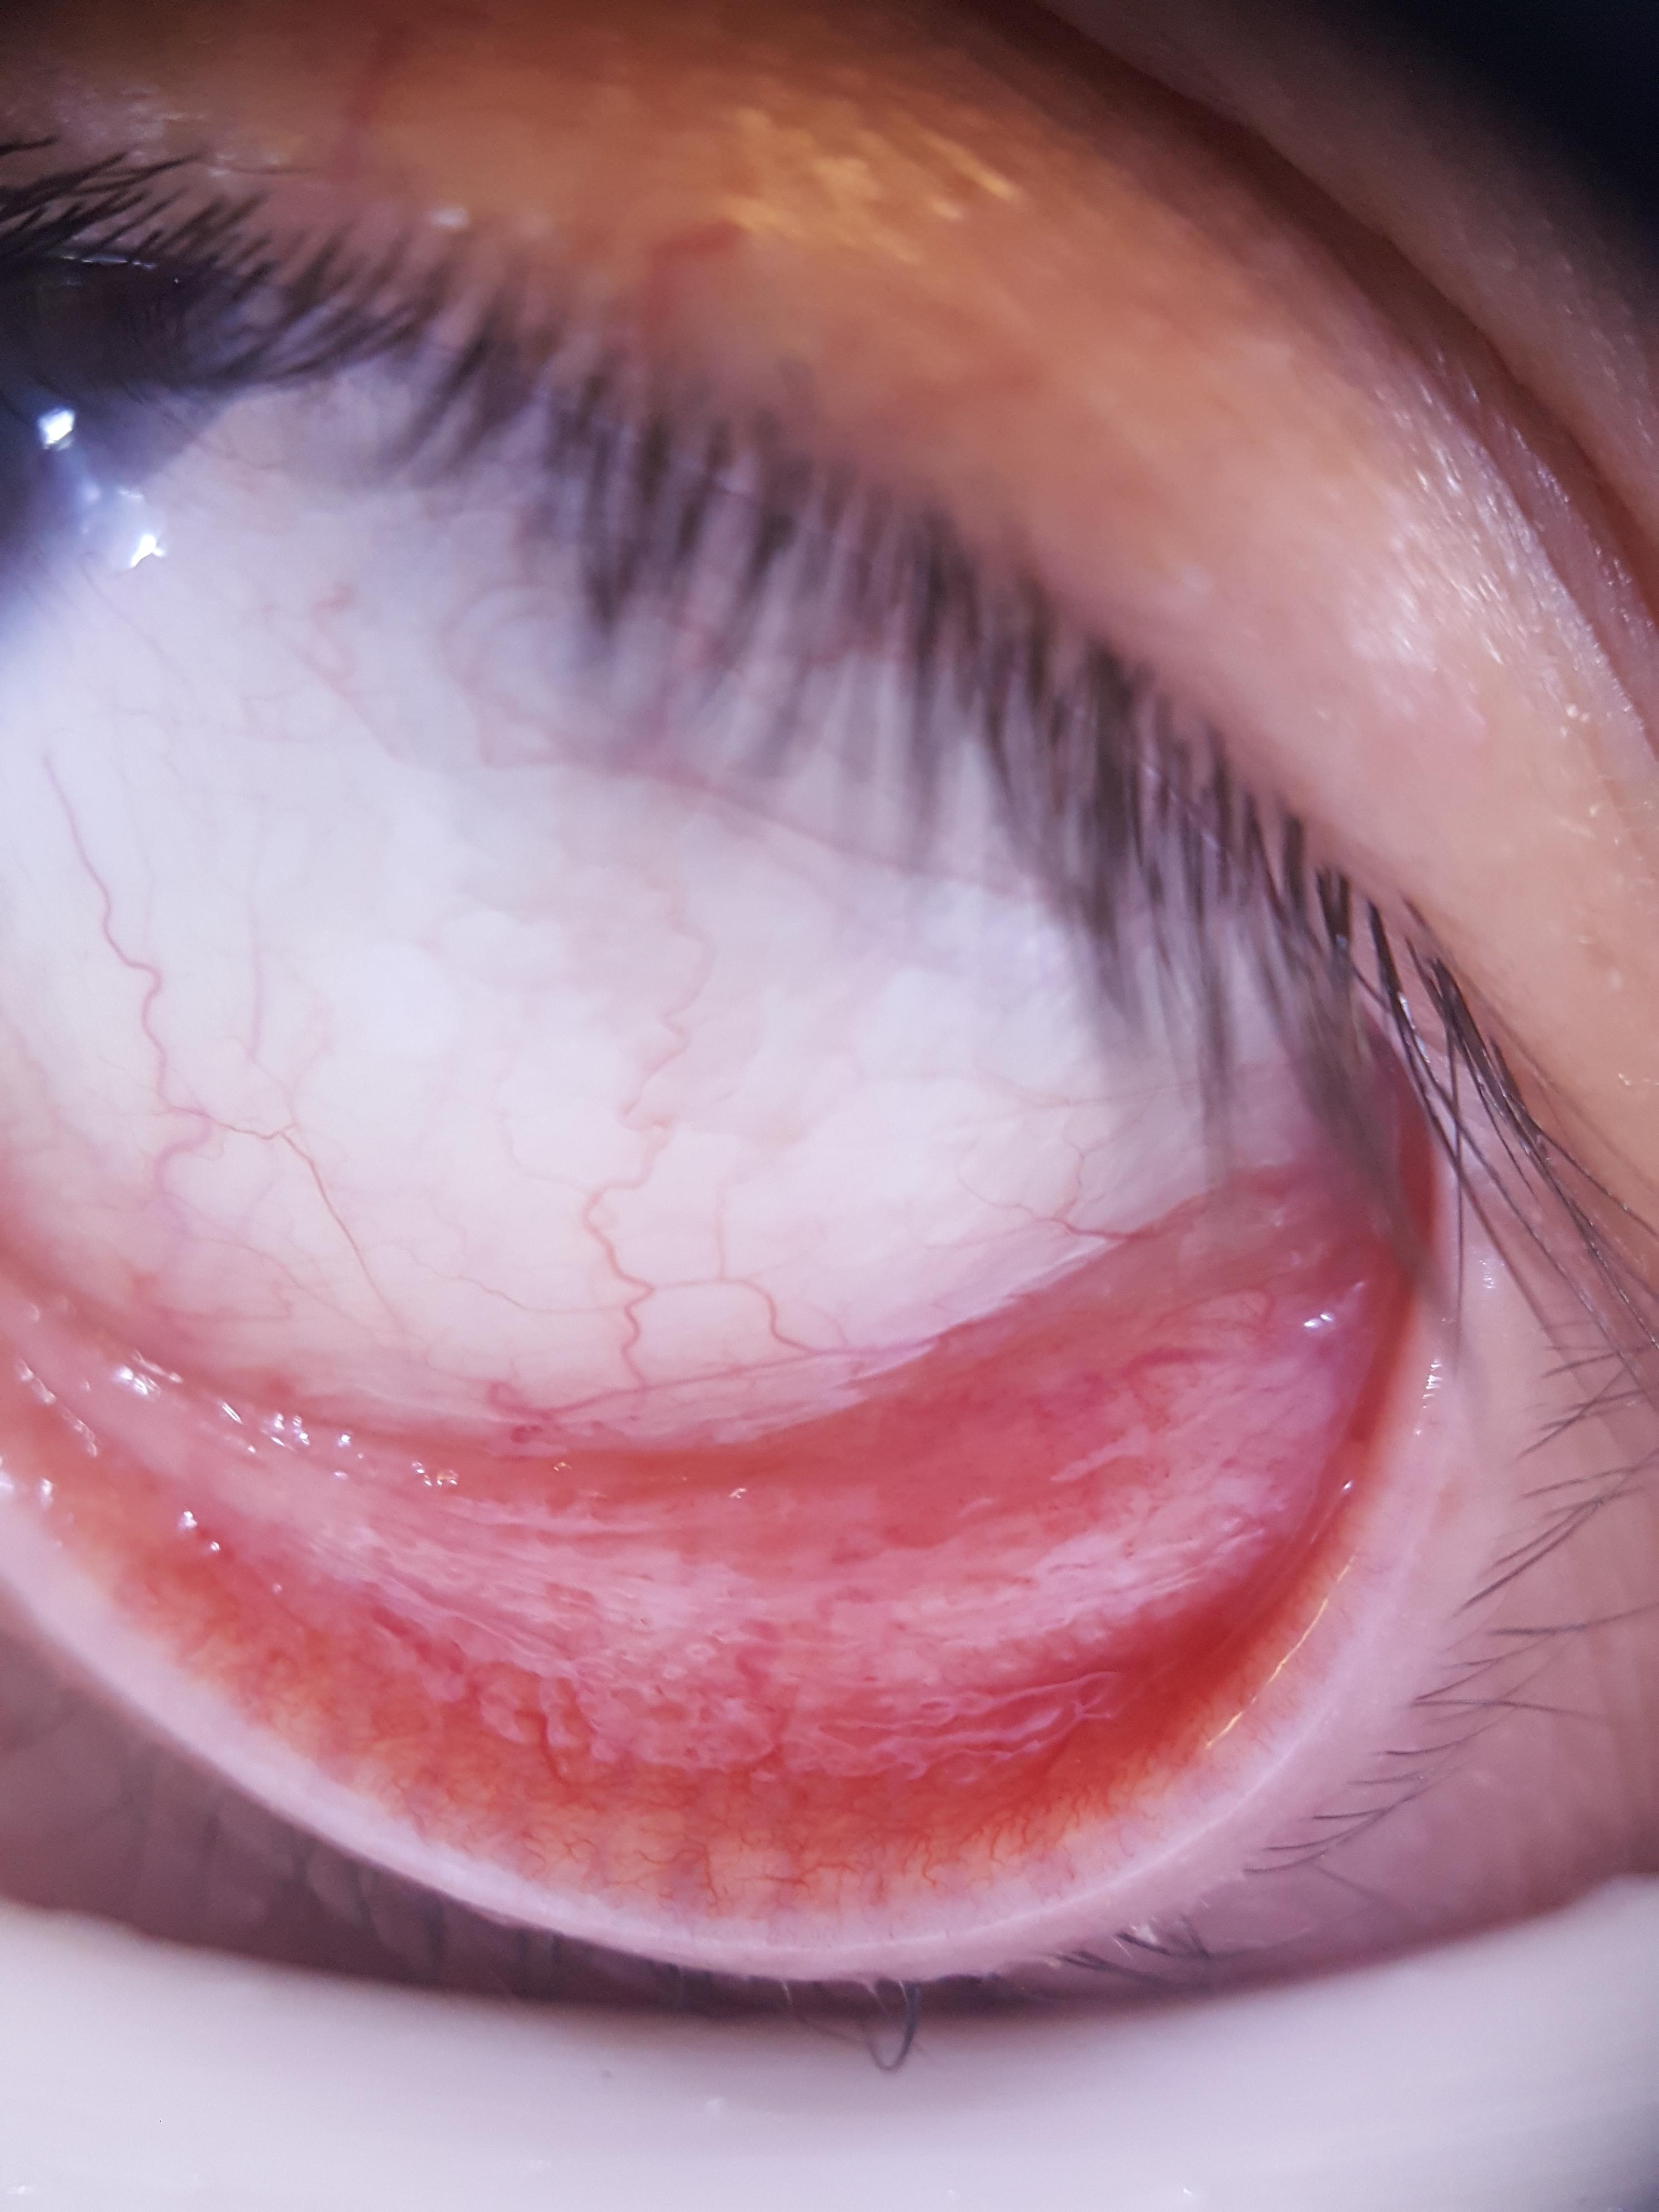forniceal: (5, 1172, 1415, 1771)
forniceal_palpebral: (0, 1137, 1438, 1916)
palpebral: (5, 1327, 1394, 1904)
